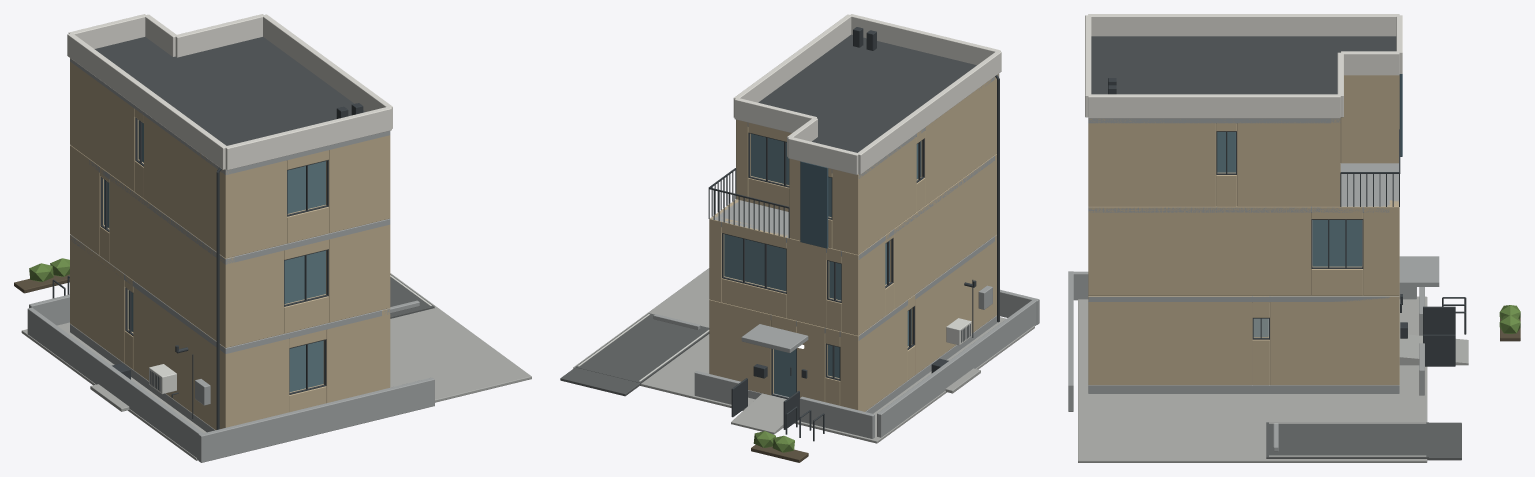
The model's file is HOUSE_03_NARROW_HOUSE.fbx.
3 renders of one model, left to right at view 1: azimuth 30°, elevation 25°; view 2: azimuth 150°, elevation 25°; view 3: azimuth 270°, elevation 25°, orthographic. The views are drawn at different scales.
Visible parts, largest first — view 1: UNITY_ASSET_HOUSE_03_NARROW_HOUSE; view 2: UNITY_ASSET_HOUSE_03_NARROW_HOUSE; view 3: UNITY_ASSET_HOUSE_03_NARROW_HOUSE.
Boxes of the visible parts, x1,y1,x2,y2 form: UNITY_ASSET_HOUSE_03_NARROW_HOUSE: (14, 14, 531, 462); UNITY_ASSET_HOUSE_03_NARROW_HOUSE: (560, 14, 1039, 462); UNITY_ASSET_HOUSE_03_NARROW_HOUSE: (1068, 14, 1520, 462).
Bounding box in the file's own units: 11.45 × 9.61 × 13.08.
